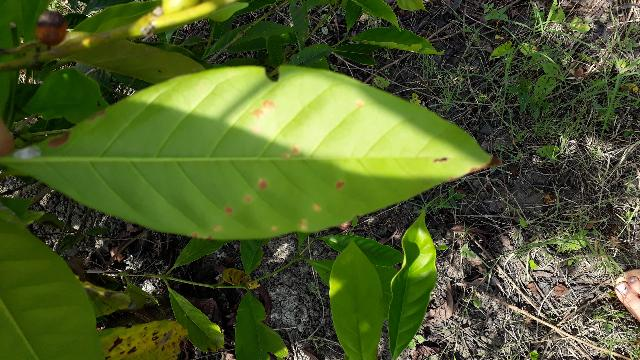rust_level_1: (4, 58, 516, 243)
